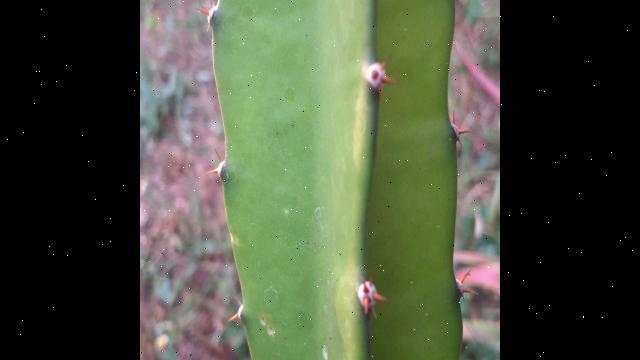stemcanker: (255, 316, 286, 346)
